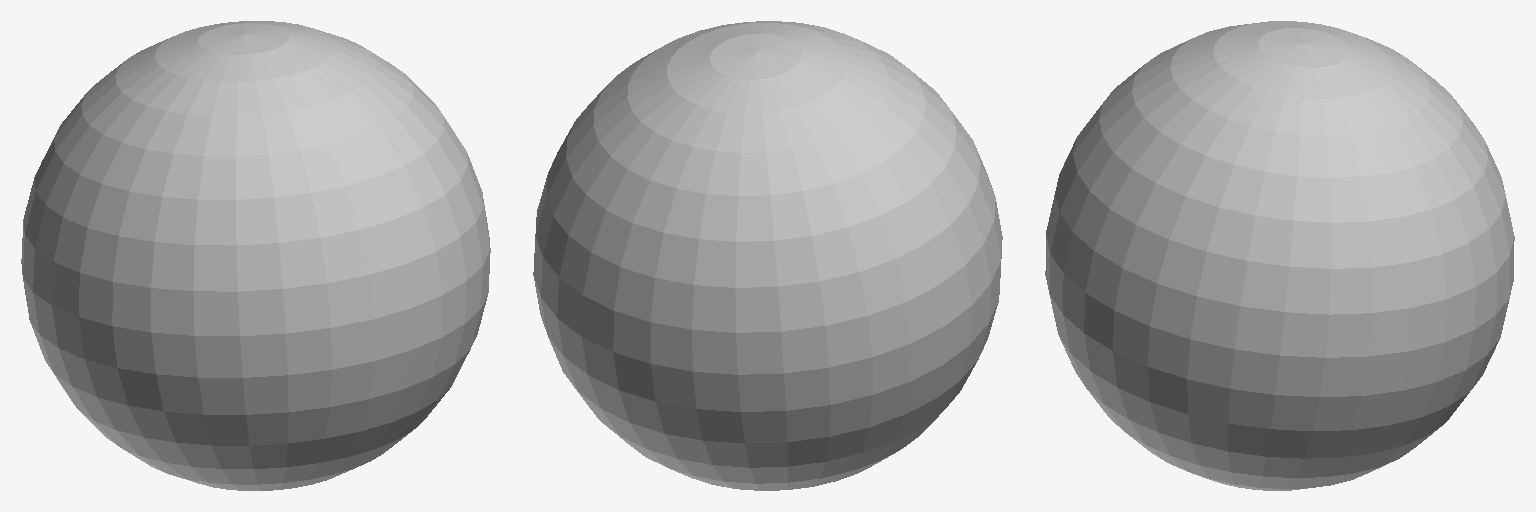
Rendered from Right Knee.obj.
3 views of the same model, side by side, from view 1: azimuth 30°, elevation 25°; view 2: azimuth 150°, elevation 25°; view 3: azimuth 270°, elevation 25° (orthographic).
Visible parts, largest first — view 1: Right_Knee_Sphere.011; view 2: Right_Knee_Sphere.011; view 3: Right_Knee_Sphere.011.
Boxes of the visible parts, box(x1,y1,x2,y2) form: Right_Knee_Sphere.011: box(21, 21, 490, 490); Right_Knee_Sphere.011: box(533, 21, 1002, 490); Right_Knee_Sphere.011: box(1045, 21, 1514, 490).
Bounding box in the file's own units: 0.7 × 0.6971 × 0.6971.